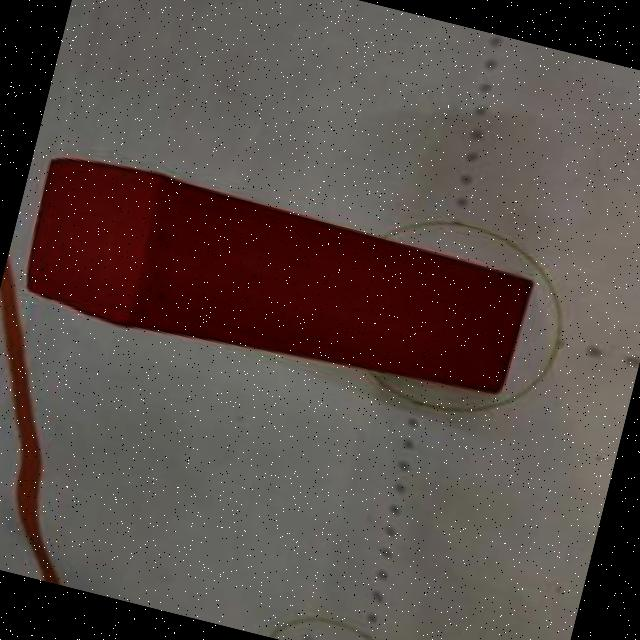redbox: (10, 144, 540, 422)
